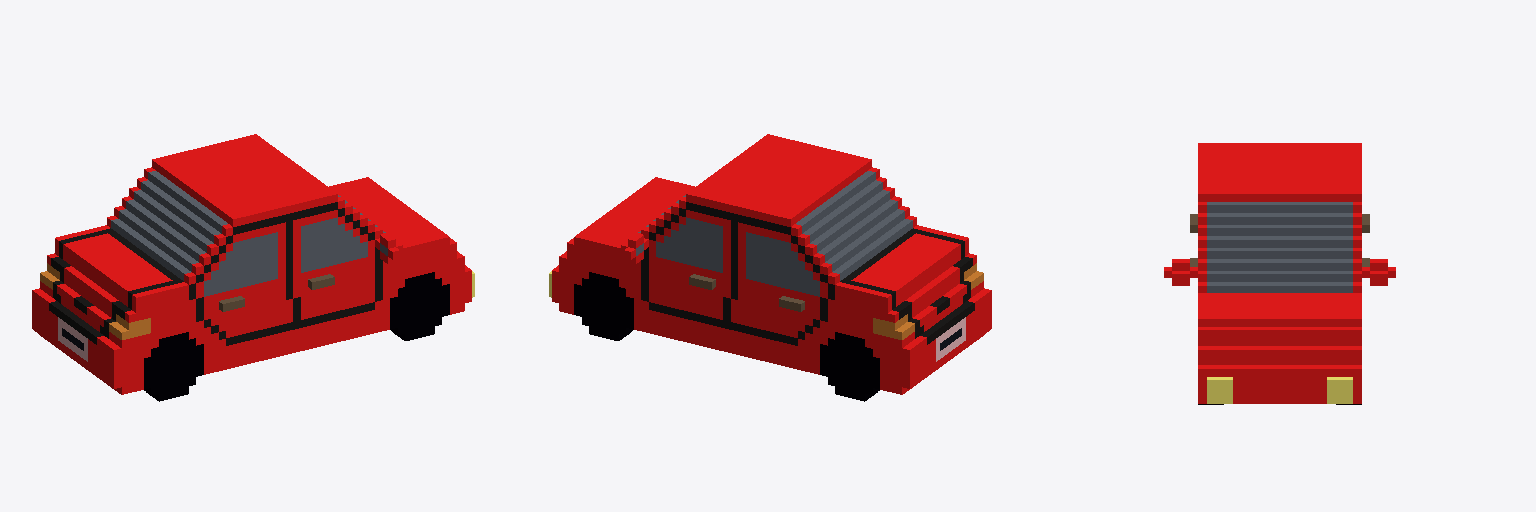
3 views of the same model, side by side, from view 1: azimuth 30°, elevation 25°; view 2: azimuth 150°, elevation 25°; view 3: azimuth 270°, elevation 25° (orthographic).
Parts seen in each view (by area): view 1: Model; view 2: Model; view 3: Model.
Part boxes in pixels (left/top/right/bottom): Model: left=32, top=134, right=474, bottom=401; Model: left=549, top=134, right=991, bottom=401; Model: left=1164, top=143, right=1395, bottom=404.
Size of the model in its own units: 31.36 by 13.44 by 17.28.
Materials: 1 (1 with a texture image).